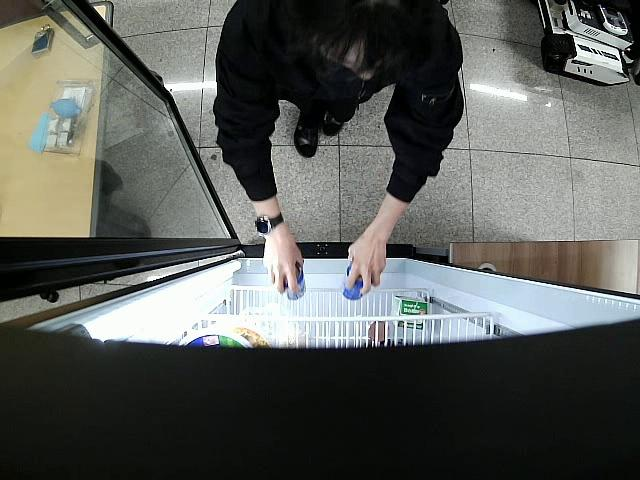00_hand: (344, 232, 386, 294), (262, 239, 306, 294)
13_pocariSweat: (340, 261, 369, 301), (279, 261, 308, 299)
